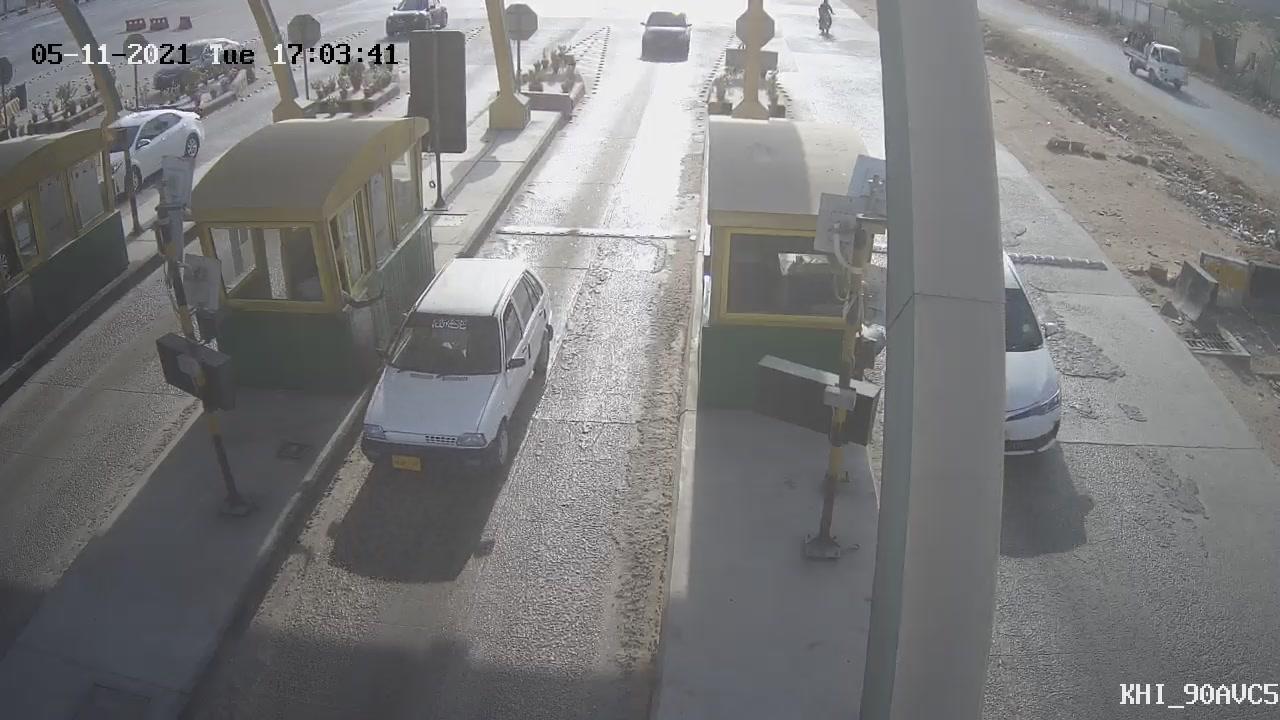F1: (326, 236, 585, 504)
